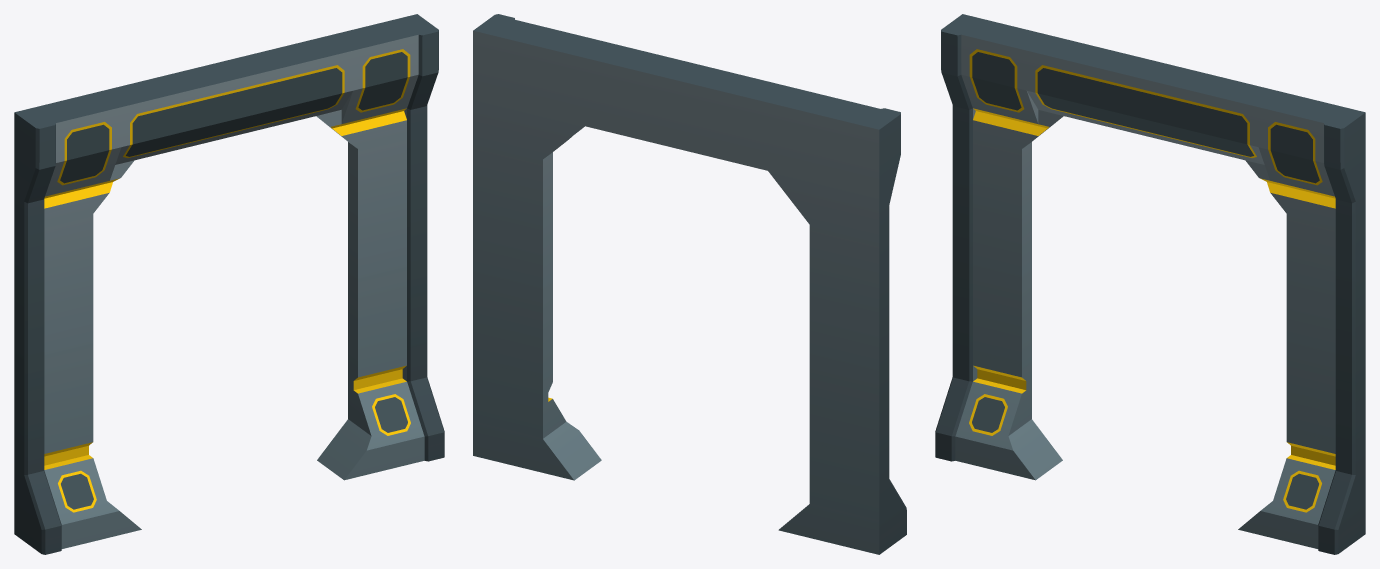
Rendered from Wall_type_C_060.glb.
3 views of the same model, side by side, from view 1: azimuth 30°, elevation 25°; view 2: azimuth 150°, elevation 25°; view 3: azimuth 330°, elevation 25° (orthographic).
Parts seen in each view (by area): view 1: Wall_type_C_060; view 2: Wall_type_C_060; view 3: Wall_type_C_060.
Part boxes in pixels (x1,y1,x2,y2): Wall_type_C_060: [14, 14, 444, 554]; Wall_type_C_060: [473, 14, 906, 554]; Wall_type_C_060: [935, 14, 1365, 554].
Bounding box in the file's own units: 4 × 4 × 0.5.
1 material, 1 textured.
